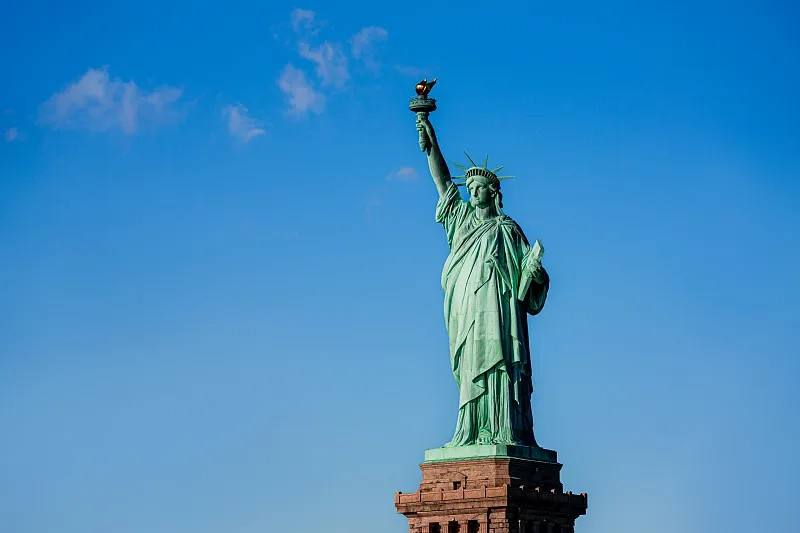SL: (394, 77, 589, 533)
